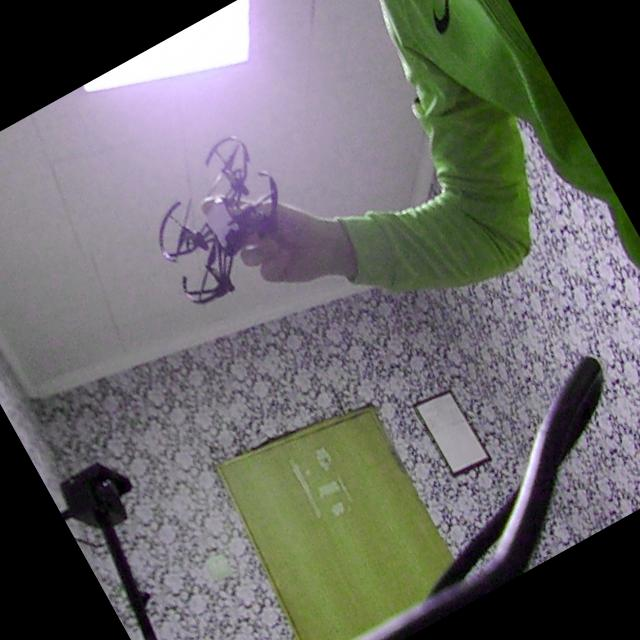drone: (115, 105, 343, 334)
